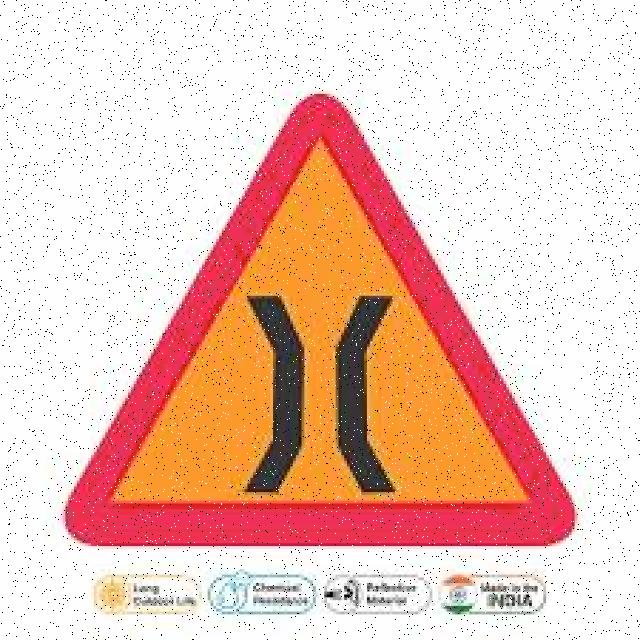Narrow_Bridge: (61, 95, 584, 529)
